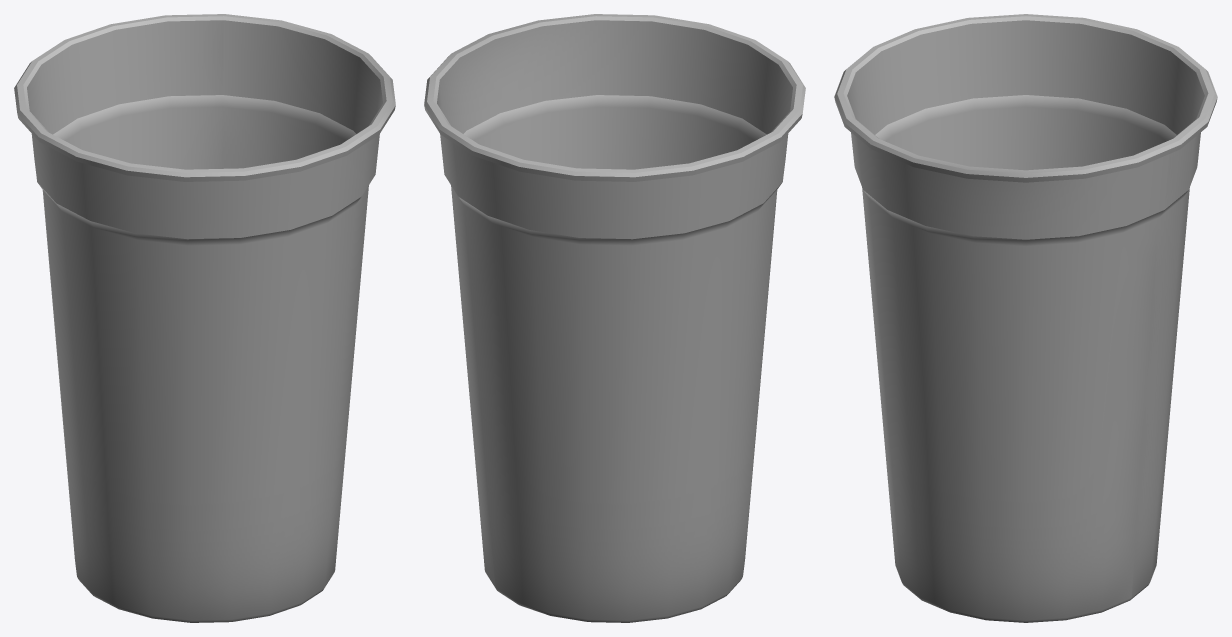
The model's file is Cocdungnuoc.fbx.
3 renders of one model, left to right at view 1: azimuth 30°, elevation 25°; view 2: azimuth 150°, elevation 25°; view 3: azimuth 270°, elevation 25°, orthographic.
Visible parts, largest first — view 1: Cocdungnuoc; view 2: Cocdungnuoc; view 3: Cocdungnuoc.
Part boxes in pixels (box(x1,y1,x2,y2)): Cocdungnuoc: box(14, 14, 395, 622); Cocdungnuoc: box(424, 14, 805, 622); Cocdungnuoc: box(834, 14, 1217, 622).
Bounding box in the file's own units: 7.52 × 10.32 × 7.52.
Materials: 1 (1 with a texture image).
